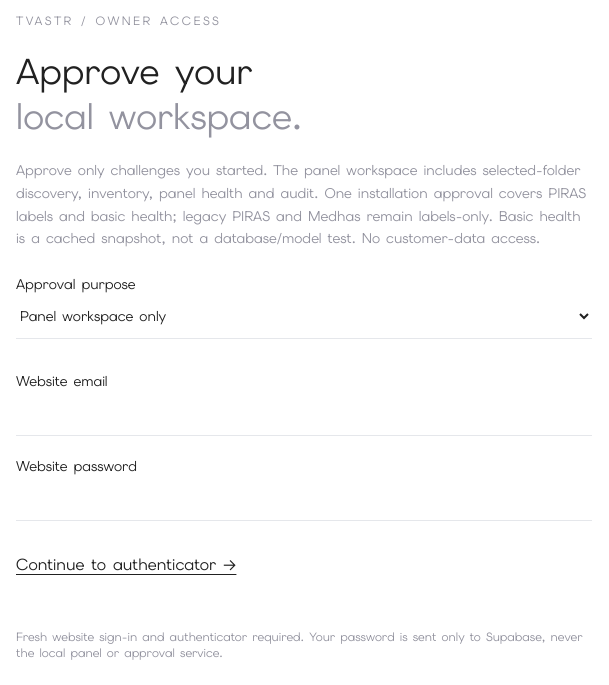
Scenario: isolated owner approval › requires password before MFA and never sends password to the approval service
In the field labelled "Website email": [304, 414] box [16, 391, 592, 436], type "owner@example.invalid"
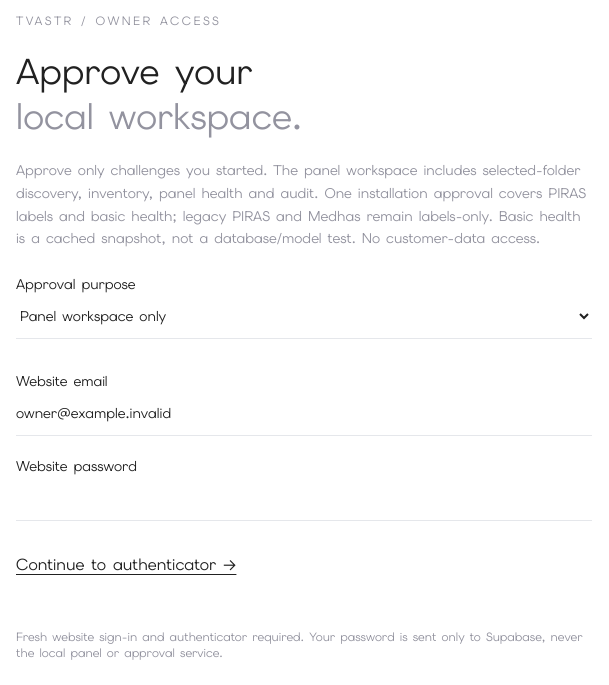
In the password field labelled "Website password": [304, 498] box [16, 476, 592, 521], type "synthetic-password-not-real"
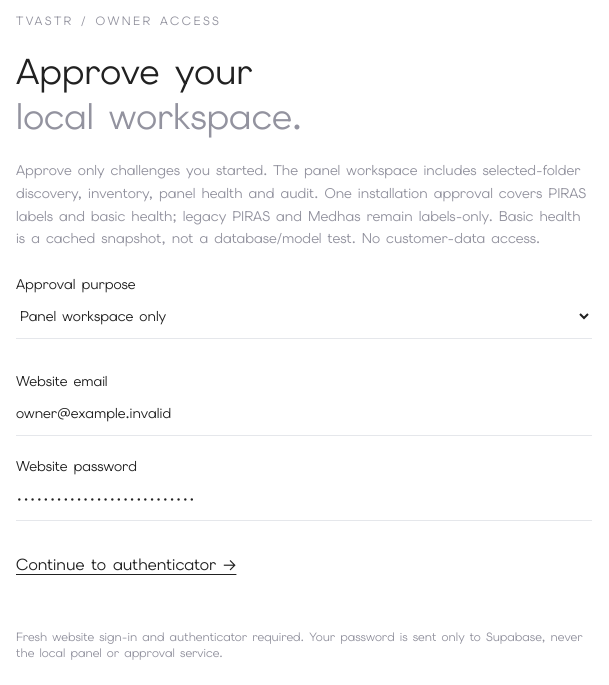
Click the button "Continue to authenticator →": [126, 565] box [16, 541, 236, 589]
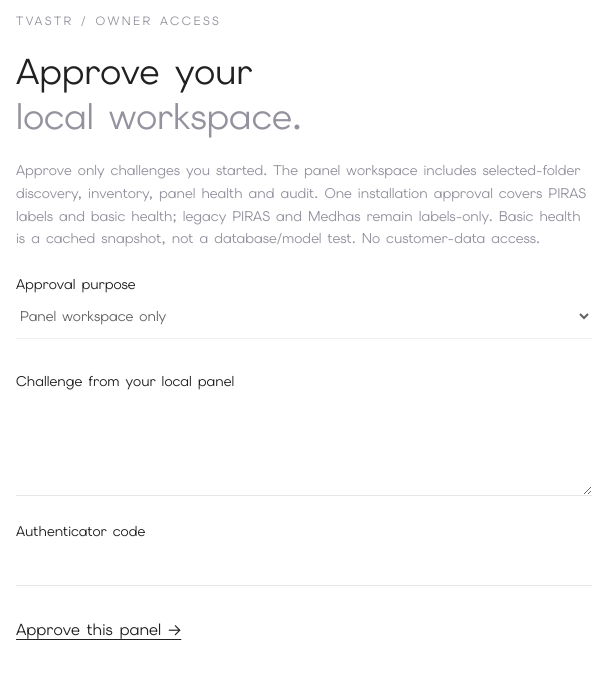
Check: the field labelled "Authenticator code" is shown, box [16, 541, 592, 586]
In the text box labelled "Challenge from your local panel": [304, 444] box [16, 391, 592, 496], type "synthetic-challenge"
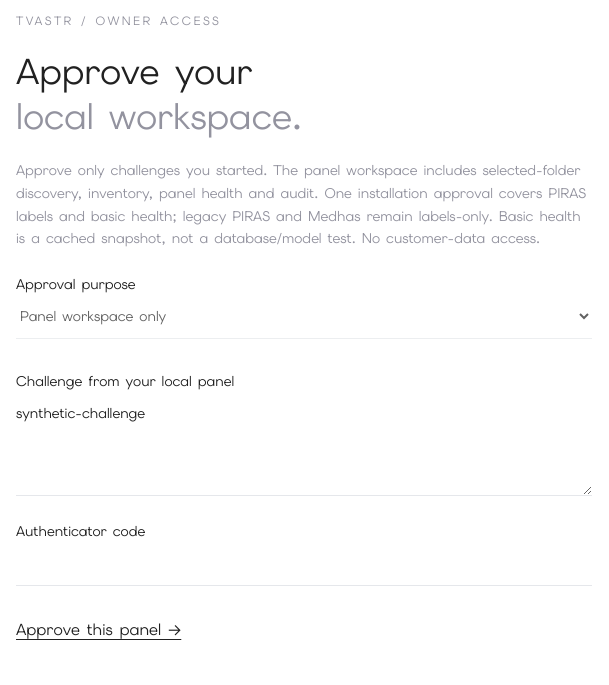
In the field labelled "Authenticator code": [304, 564] box [16, 541, 592, 586], type "123456"
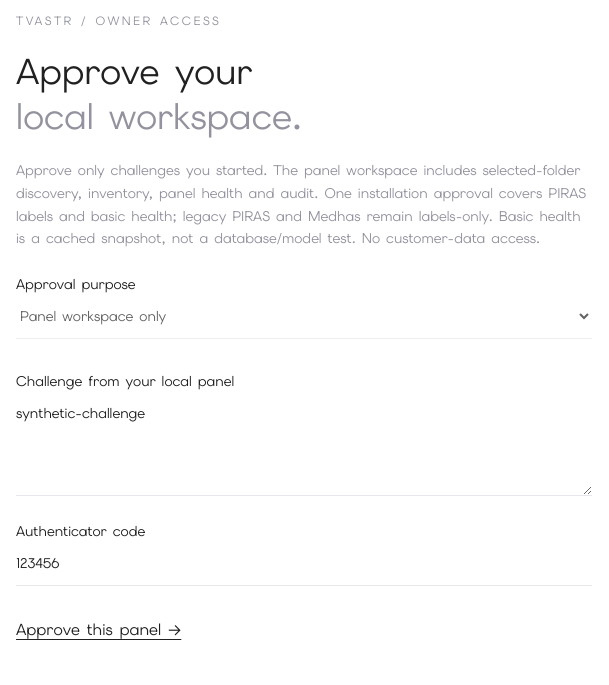
Click the button "Approve this panel →": [99, 630] box [16, 606, 181, 654]
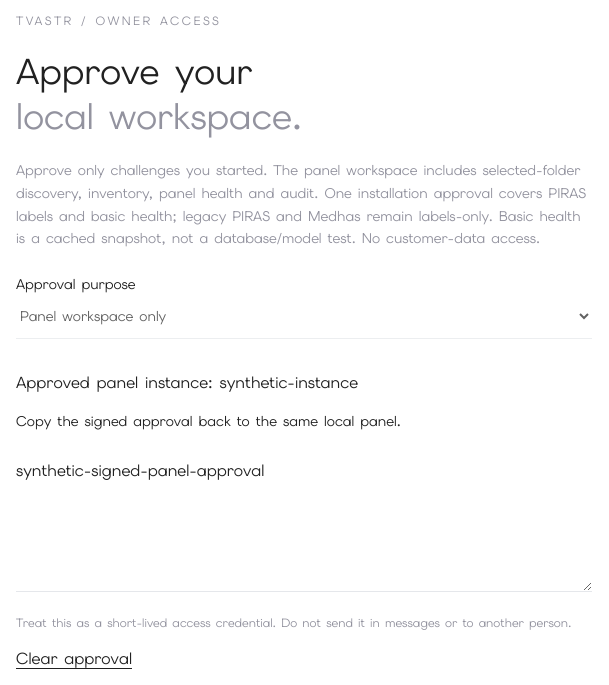
Check: the text box labelled "Copy the signed approval back to the same local panel." is shown, box [16, 447, 592, 592]
